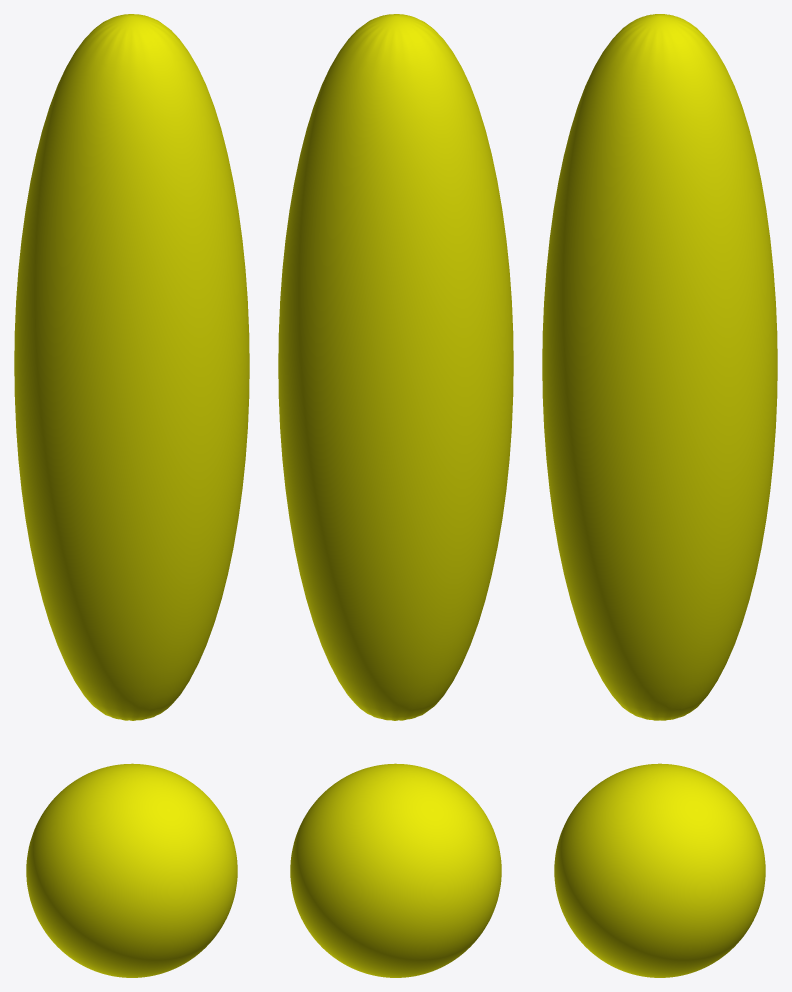
File: exclamation mark.fbx
The picture shows the model from 3 angles, left to right: view 1: azimuth 30°, elevation 25°; view 2: azimuth 150°, elevation 25°; view 3: azimuth 270°, elevation 25°; orthographic projection.
Parts seen in each view (by area): view 1: pSphere3; view 2: pSphere3; view 3: pSphere3.
Boxes of the visible parts, left/top/right/bottom form: pSphere3: left=14, top=14, right=249, bottom=977; pSphere3: left=278, top=14, right=513, bottom=977; pSphere3: left=542, top=14, right=777, bottom=977.
Size of the model in its own units: 1.93 by 8.62 by 1.93.
